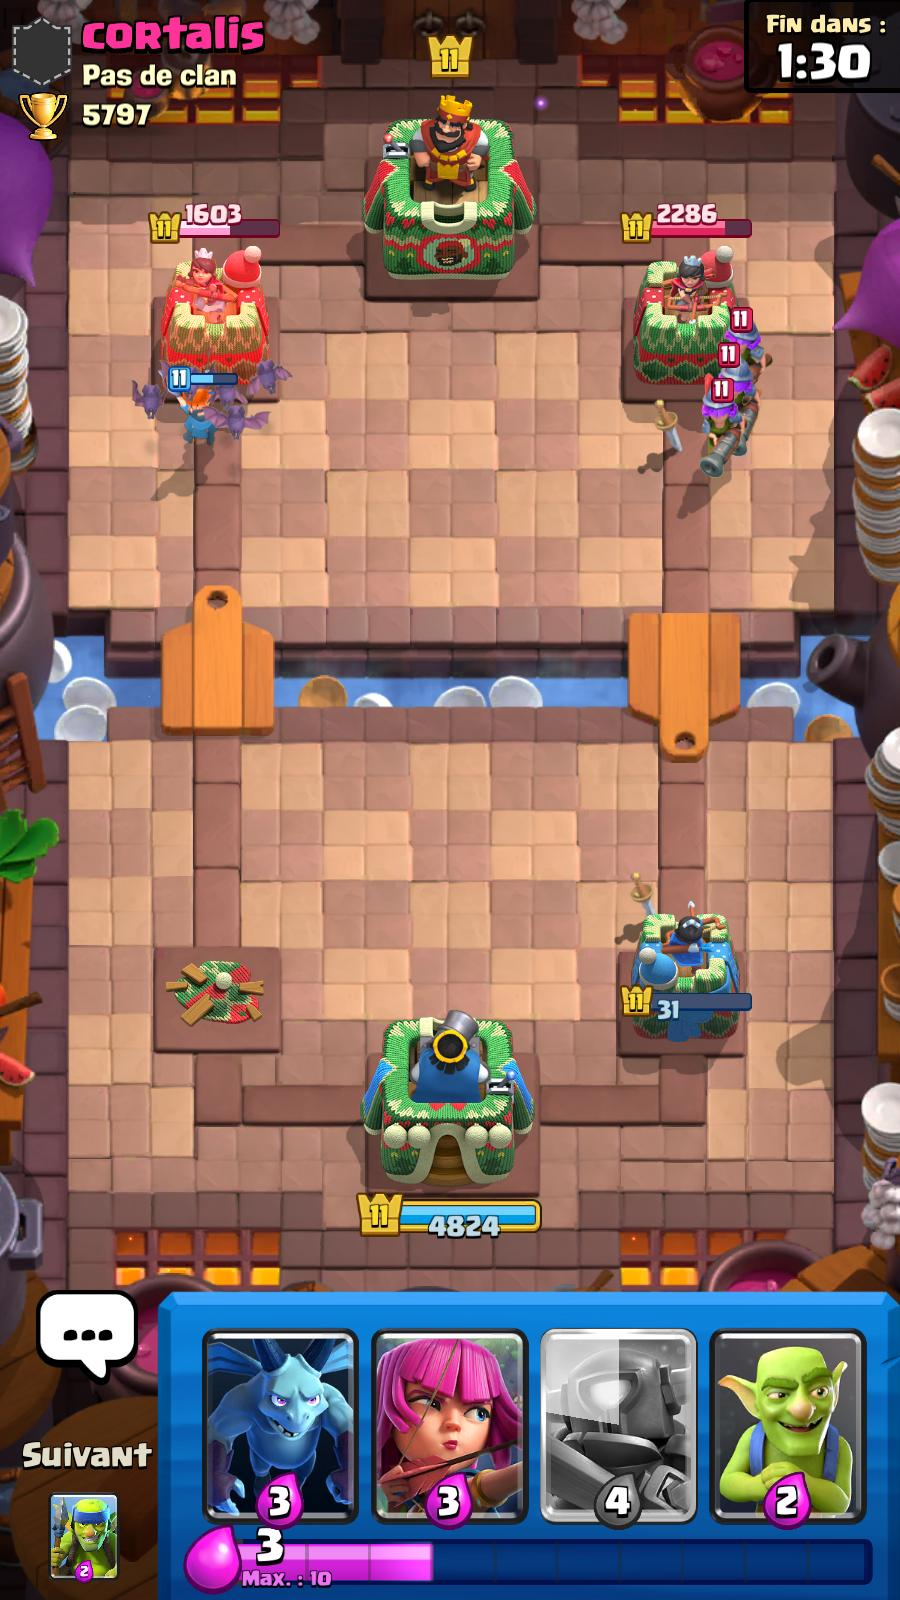bat: (260, 344, 307, 399), (204, 407, 274, 440), (118, 376, 171, 418), (216, 369, 247, 415)
mousquetaire: (685, 382, 763, 503), (702, 353, 774, 455), (714, 293, 764, 382)
valkyrie: (162, 362, 226, 447)
